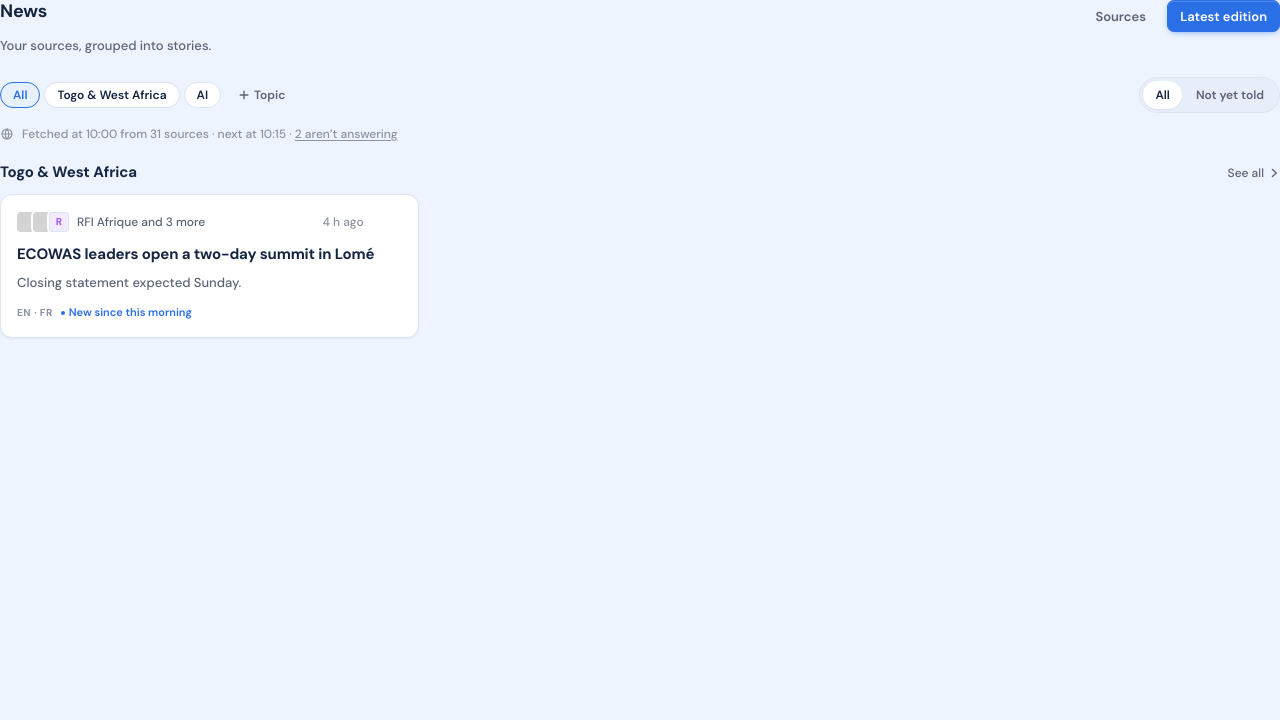
Test: the News page grammar (host API 1.27) › does not repeat the description as an update
The image size is (1280, 720).
Click the heading "ECOWAS leaders open a two-day summit in Lomé": (209, 255) [17,245,402,265]
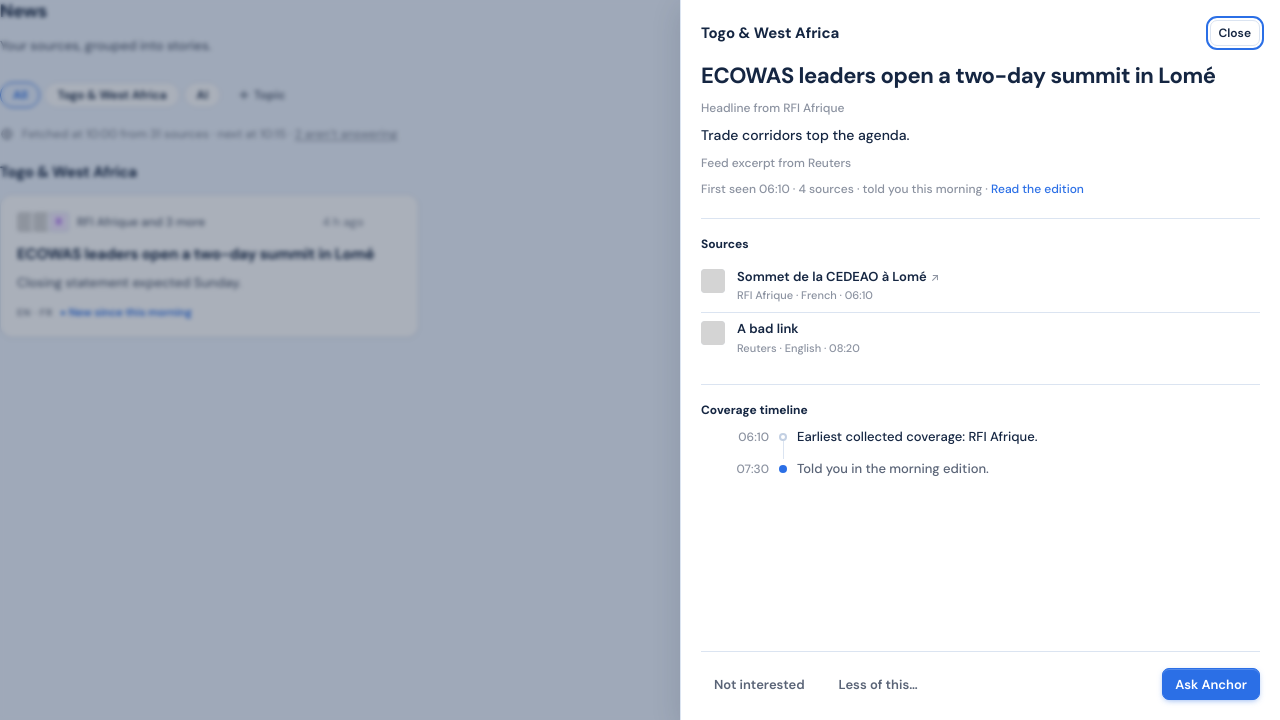
Result: the text "Trade corridors top the agenda." is shown once at [701,125,910,146]
